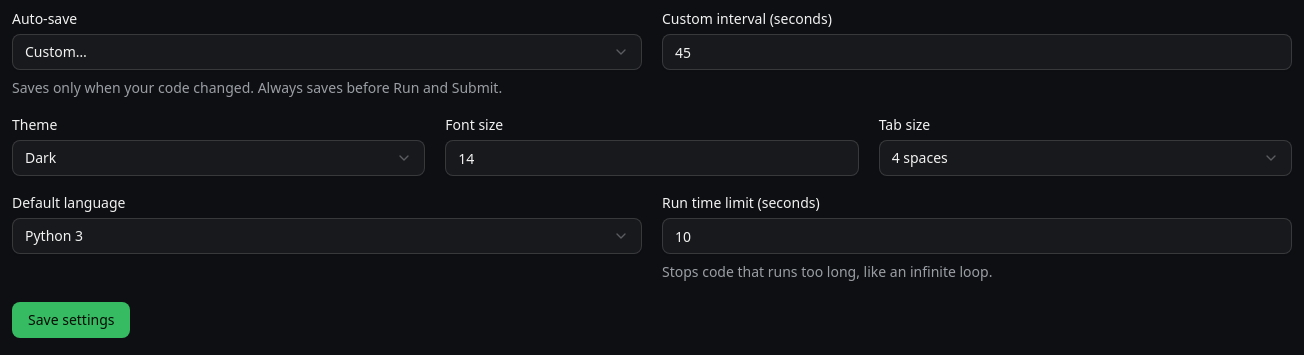
EditorSettingsForm › uses Zod messages instead of native browser validation
Replace the text in the field labelled "Custom interval (seconds)" with "999" at [977, 52], box [662, 34, 1292, 70]
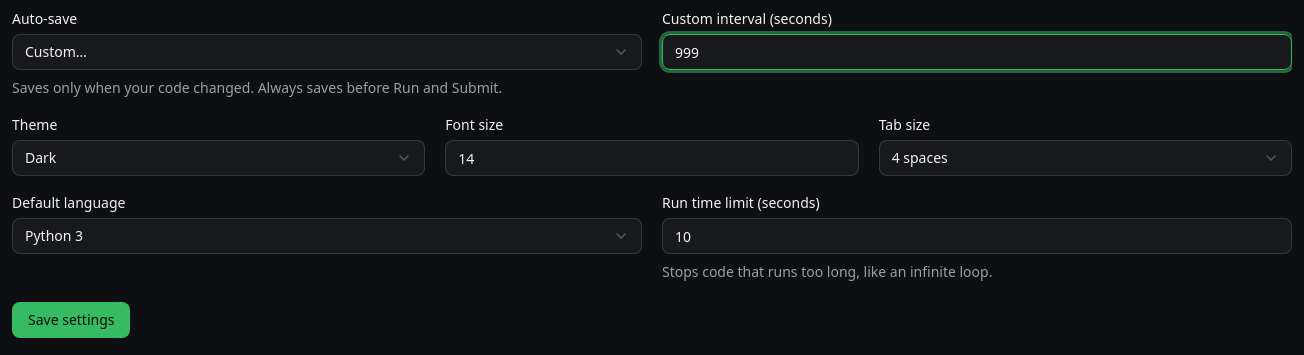
Click the button "Save settings".
click(71, 320)  # box [12, 302, 130, 338]
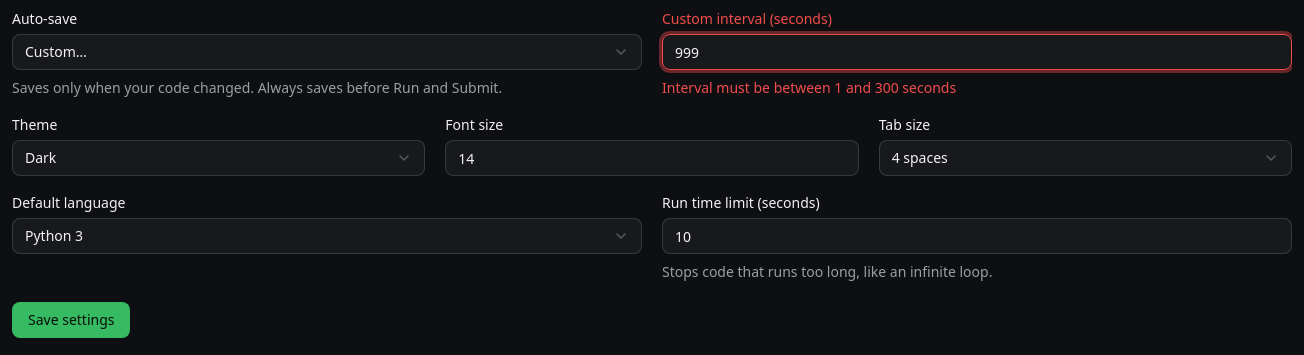
Expected: the text "Interval must be between 1 and 300 seconds" is shown, [662, 78, 956, 97]
